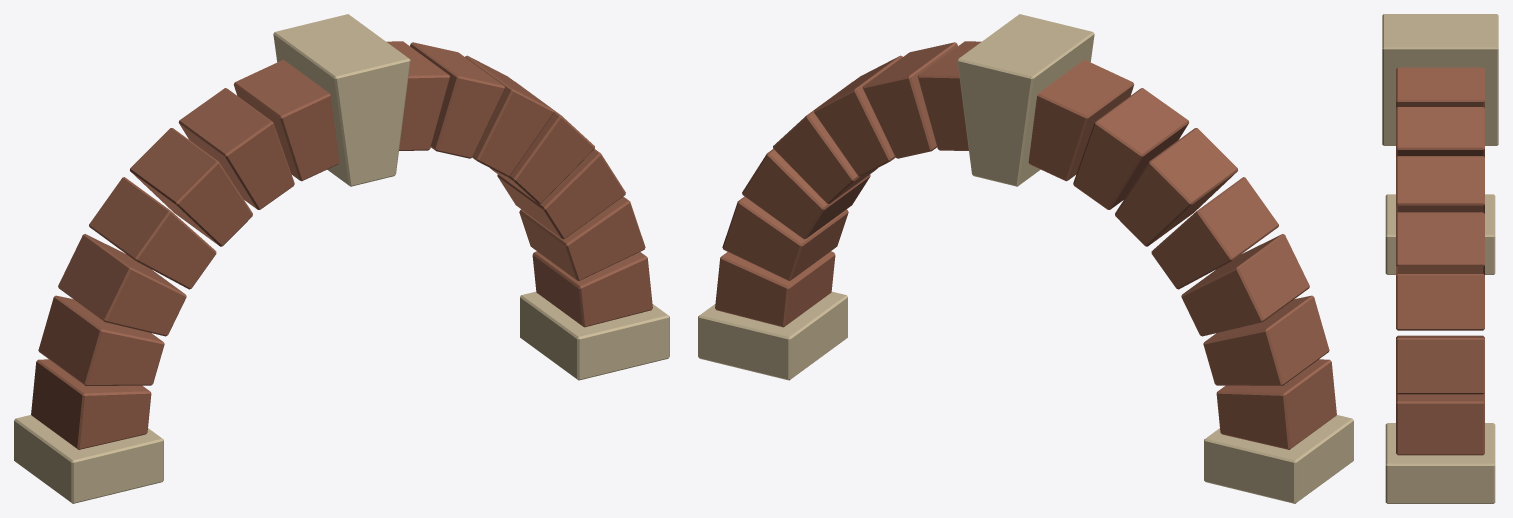
The model's file is b12_brick_arch_window_lintel.glb.
3 views of the same model, side by side, from view 1: azimuth 30°, elevation 25°; view 2: azimuth 150°, elevation 25°; view 3: azimuth 270°, elevation 25° (orthographic). The views are drawn at different scales.
Parts seen in each view (by area): view 1: b12_brick_arch_window_lintel; view 2: b12_brick_arch_window_lintel; view 3: b12_brick_arch_window_lintel.
Part boxes in pixels (x1,y1,x2,y2): b12_brick_arch_window_lintel: (14, 14, 669, 503); b12_brick_arch_window_lintel: (698, 14, 1353, 503); b12_brick_arch_window_lintel: (1382, 14, 1498, 503).
Bounding box in the file's own units: 1.87 × 1.09 × 0.34.
